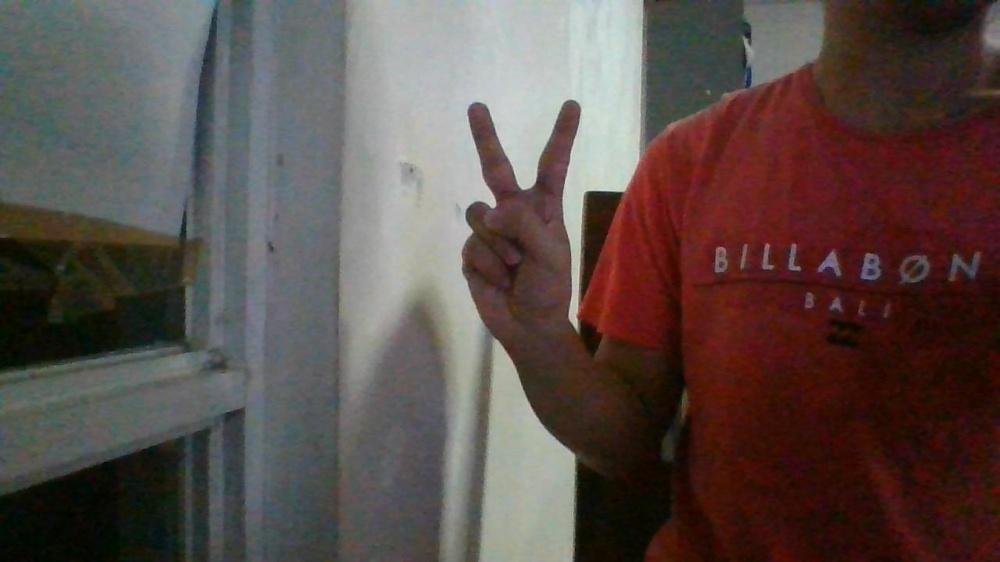v: (459, 97, 582, 347)
